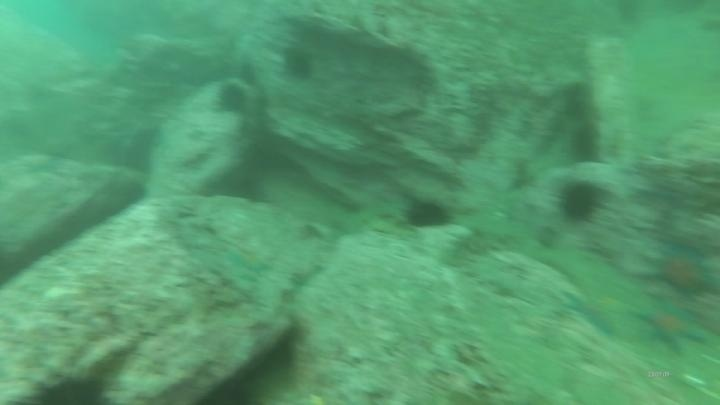echinus: (17, 364, 117, 405), (555, 178, 605, 225), (401, 195, 454, 233), (566, 122, 603, 167), (279, 44, 317, 84), (213, 80, 251, 117)
holothurian: (442, 222, 517, 268)
starfish: (643, 238, 719, 300), (560, 284, 640, 341), (632, 298, 709, 357), (223, 244, 275, 277), (17, 151, 63, 179)
